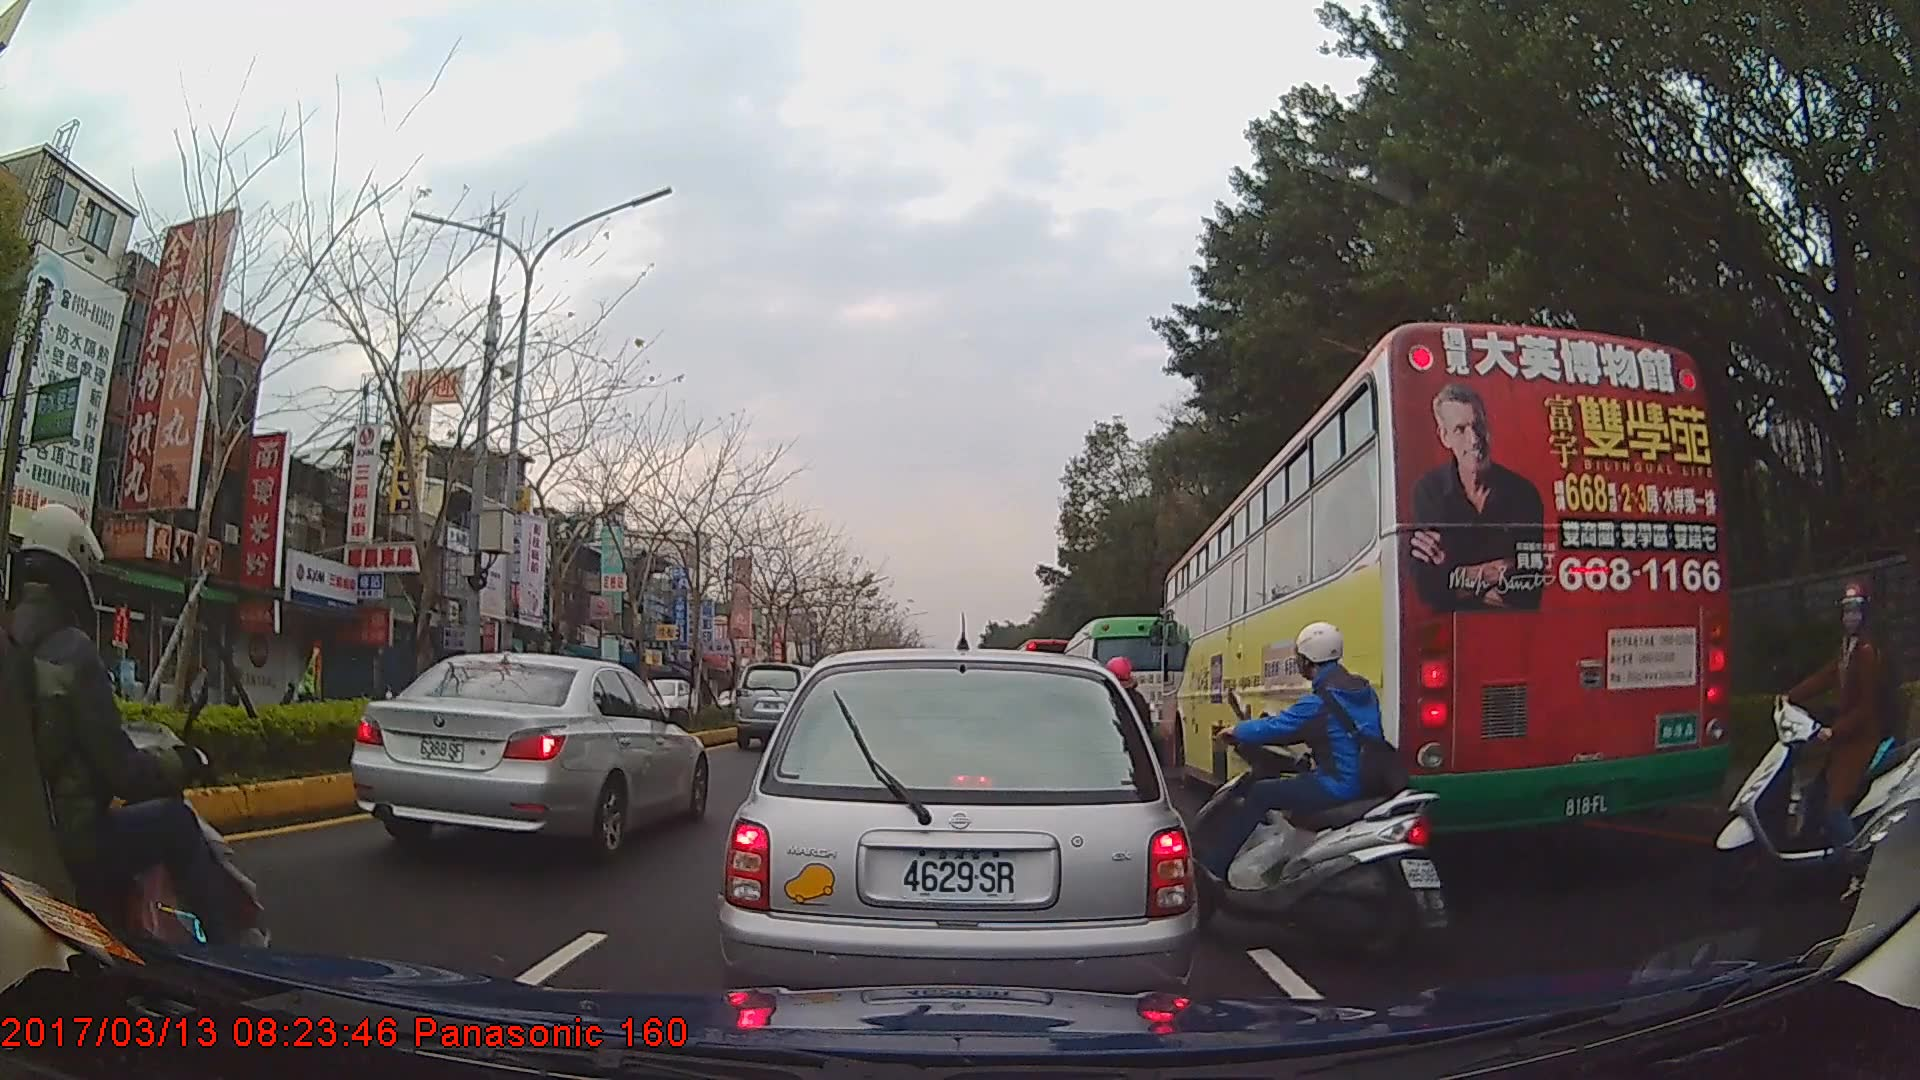rider: (1, 496, 275, 1030), (1182, 625, 1449, 969), (1713, 574, 1906, 896), (1839, 540, 1920, 991)
vehicle: (1160, 320, 1727, 853), (716, 646, 1196, 1030), (349, 648, 708, 862), (1059, 616, 1187, 761), (732, 662, 819, 749), (612, 673, 701, 729)
